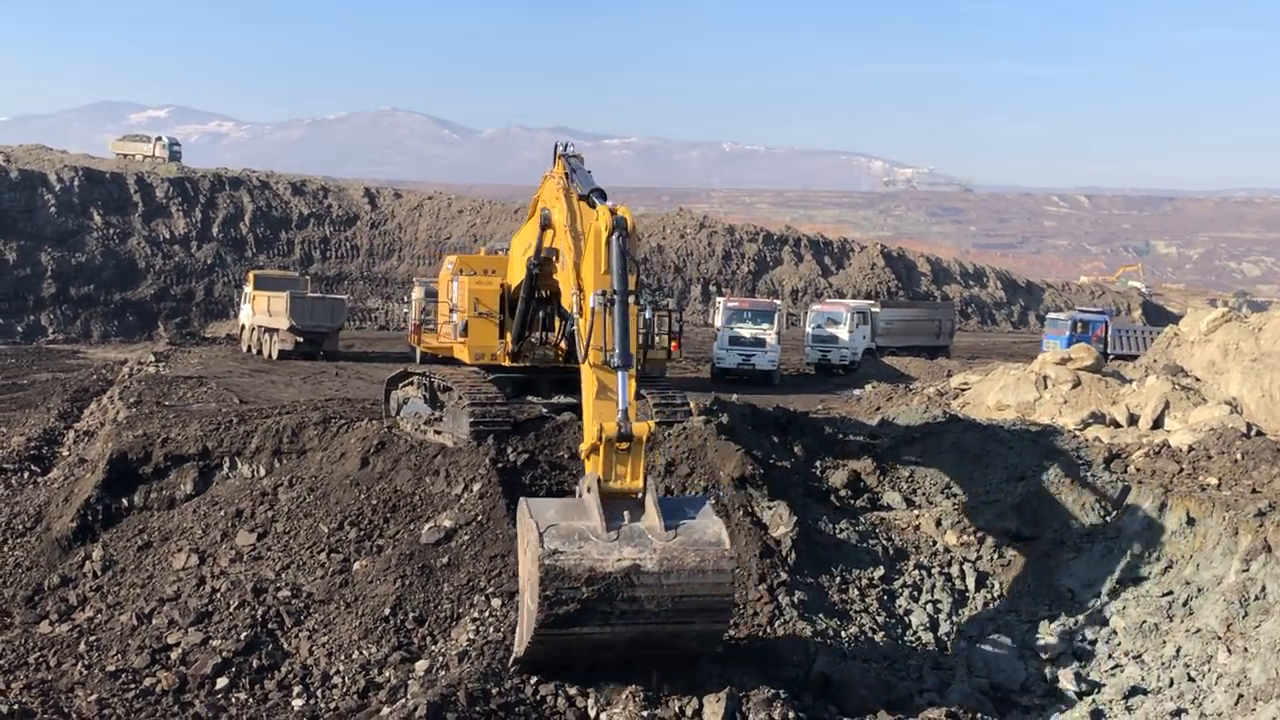empty: (503, 489, 744, 683)
